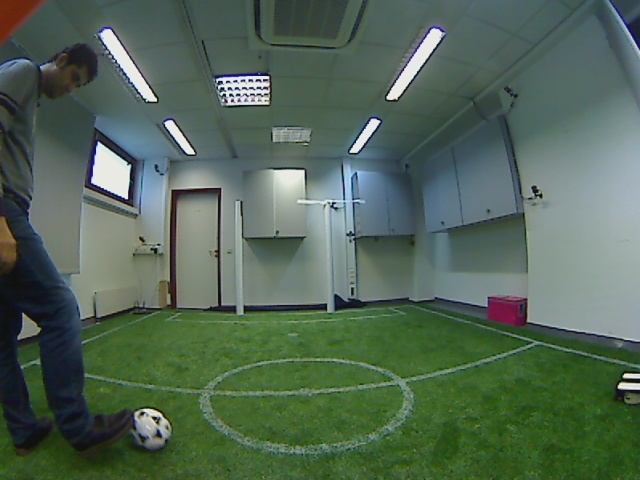ball: (122, 405, 173, 454)
